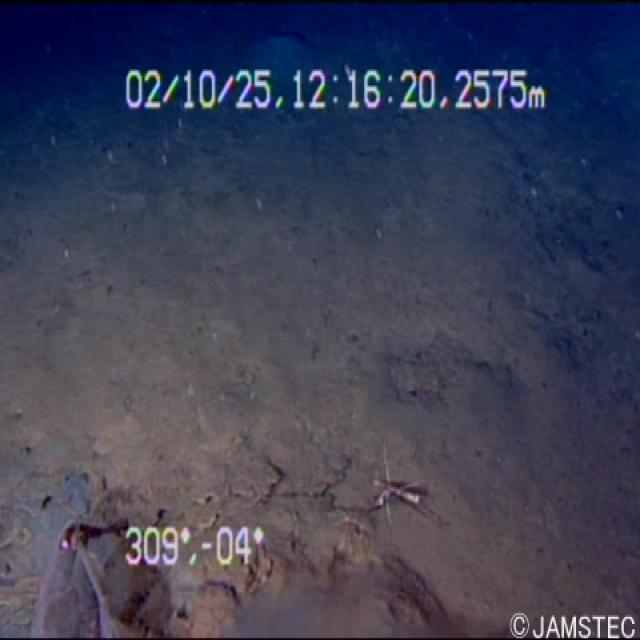plastic: (15, 496, 133, 638)
